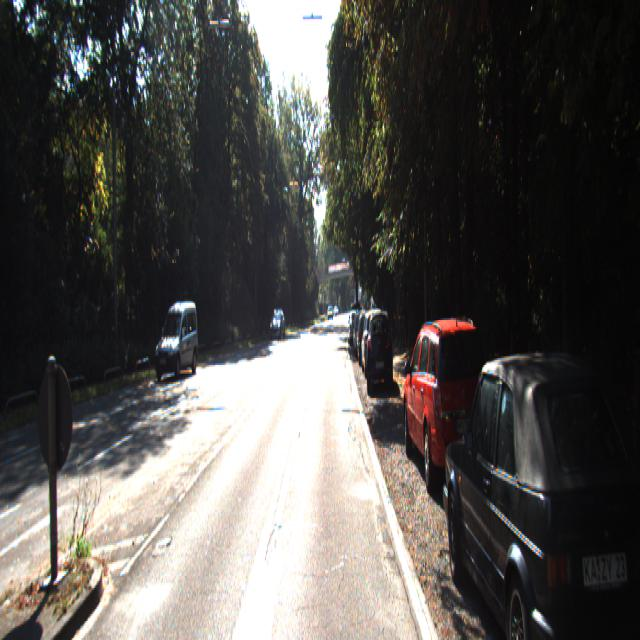Car: (442, 332, 640, 638), (402, 310, 502, 503), (153, 294, 199, 379), (366, 307, 393, 392), (363, 313, 388, 382), (358, 312, 377, 368), (270, 308, 286, 339), (350, 311, 362, 348)
